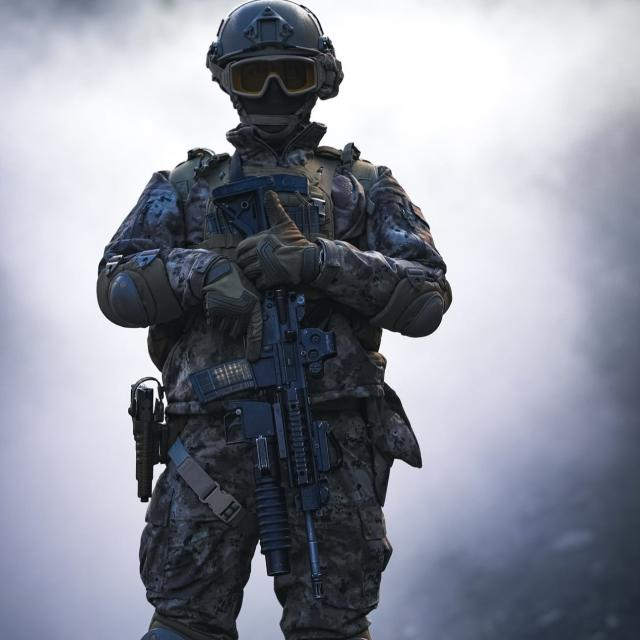poh_personel: (98, 0, 452, 640)
